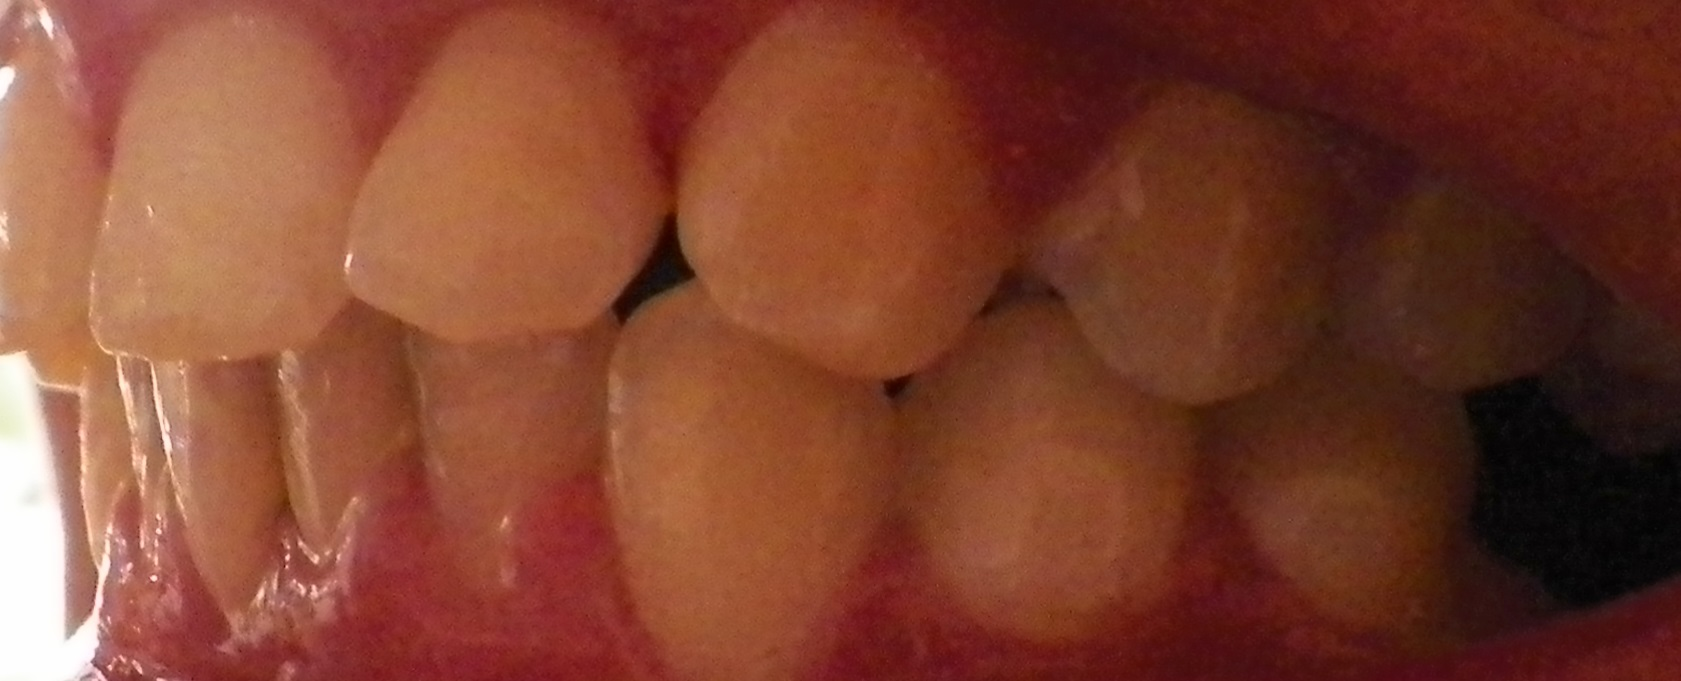boca: (1, 24, 1601, 631)
